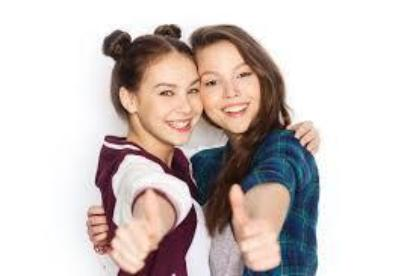person: (185, 17, 323, 276), (83, 14, 214, 276)
